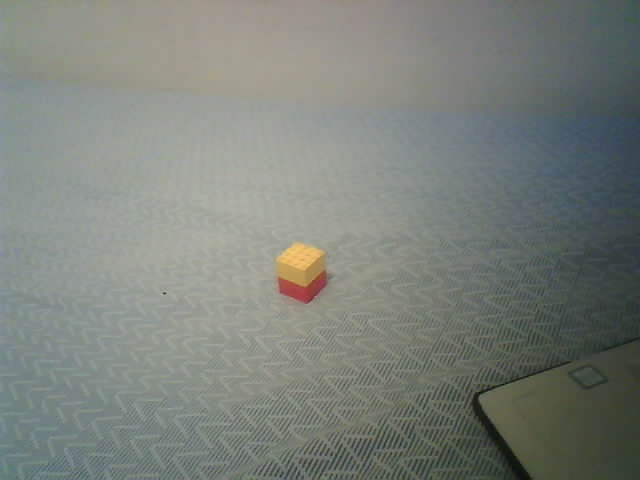lego: (274, 241, 327, 305)
